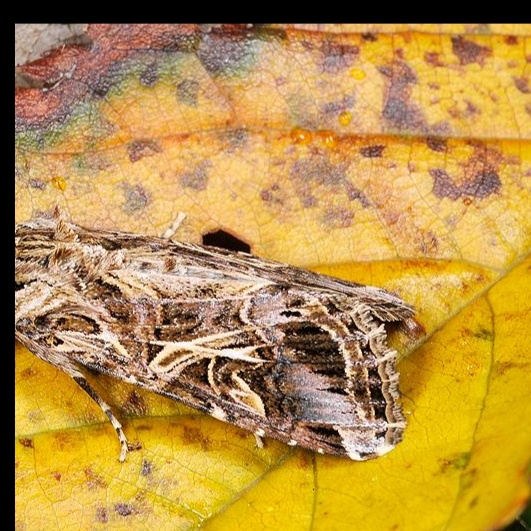Spodoptera litura: (15, 205, 421, 461)
